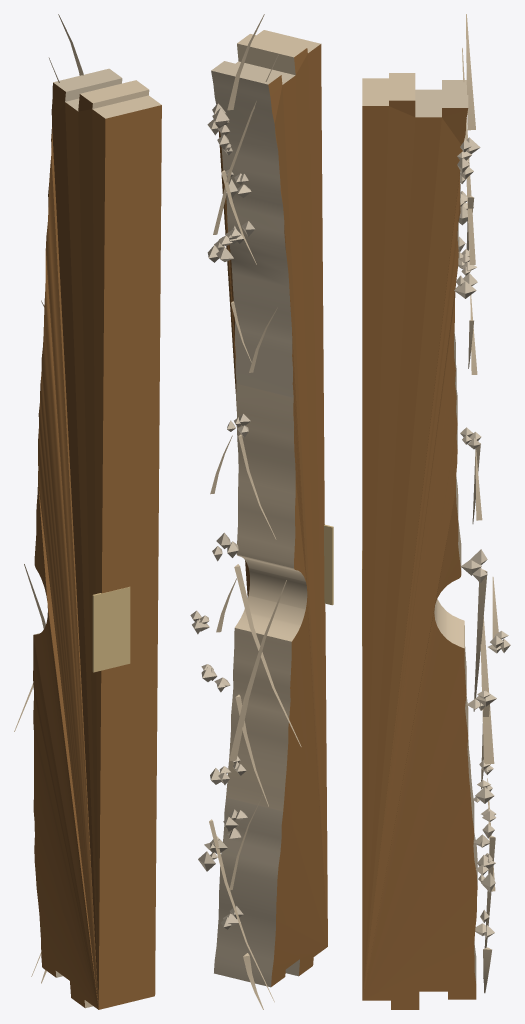
The model's file is Kit_DoorLeafBreak_Veneer_DA_Deb1.fbx.
3 views of the same model, side by side, from view 1: azimuth 30°, elevation 25°; view 2: azimuth 150°, elevation 25°; view 3: azimuth 270°, elevation 25° (orthographic).
Visible parts, largest first — view 1: deb_strip; view 2: deb_strip, deb_spl_03, deb_spl_06, deb_spl_02, deb_spl_11, deb_spl_13, deb_crm_07, deb_crm_10, deb_crm_03, deb_crm_09; view 3: deb_strip, deb_spl_03, deb_spl_06, deb_spl_13, deb_spl_11, deb_crm_07, deb_crm_09, deb_crm_04.
Part boxes in pixels (x1=…): deb_strip: x1=33, y1=68, x2=161, y2=1009; deb_strip: x1=211, y1=30, x2=333, y2=987; deb_spl_03: x1=229, y1=580, x2=286, y2=760; deb_spl_06: x1=234, y1=564, x2=301, y2=746; deb_spl_02: x1=209, y1=819, x2=274, y2=1002; deb_spl_11: x1=213, y1=55, x2=278, y2=234; deb_spl_13: x1=227, y1=14, x2=264, y2=110; deb_crm_07: x1=212, y1=532, x2=238, y2=561; deb_crm_10: x1=225, y1=169, x2=251, y2=197; deb_crm_03: x1=212, y1=103, x2=230, y2=135; deb_crm_09: x1=198, y1=835, x2=219, y2=871; deb_strip: x1=362, y1=73, x2=477, y2=1009; deb_spl_03: x1=480, y1=616, x2=494, y2=764; deb_spl_06: x1=473, y1=569, x2=487, y2=711; deb_spl_13: x1=466, y1=14, x2=475, y2=130; deb_spl_11: x1=462, y1=48, x2=475, y2=264; deb_crm_07: x1=461, y1=549, x2=487, y2=582; deb_crm_09: x1=475, y1=853, x2=495, y2=892; deb_crm_04: x1=454, y1=266, x2=477, y2=298.
Bounding box in the file's own units: 0.0771 × 0.7252 × 0.0995.
